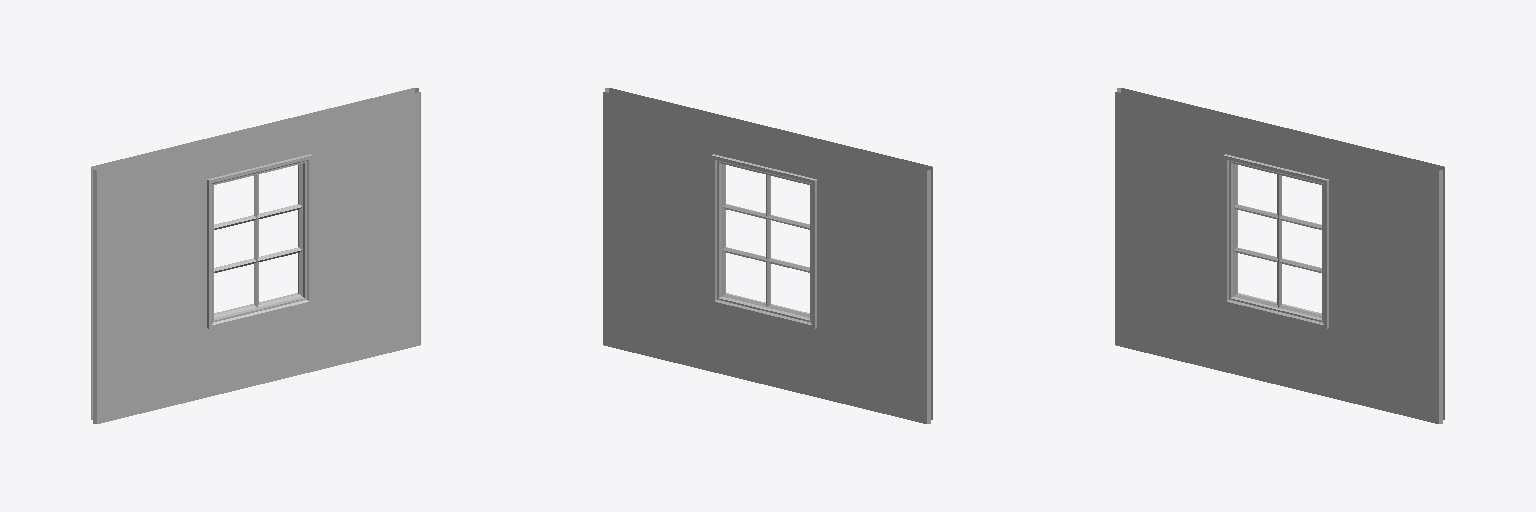
File: window_1_single_no_glass.obj
The picture shows the model from 3 angles: view 1: azimuth 30°, elevation 25°; view 2: azimuth 150°, elevation 25°; view 3: azimuth 330°, elevation 25°; orthographic projection.
Parts seen in each view (by area): view 1: window_1_single_no_glass; view 2: window_1_single_no_glass; view 3: window_1_single_no_glass.
Boxes of the visible parts, x1=… form: window_1_single_no_glass: x1=91, y1=88, x2=420, y2=423; window_1_single_no_glass: x1=603, y1=88, x2=932, y2=423; window_1_single_no_glass: x1=1115, y1=88, x2=1444, y2=423.
Size of the model in its own units: 4.06 by 3 by 0.2.